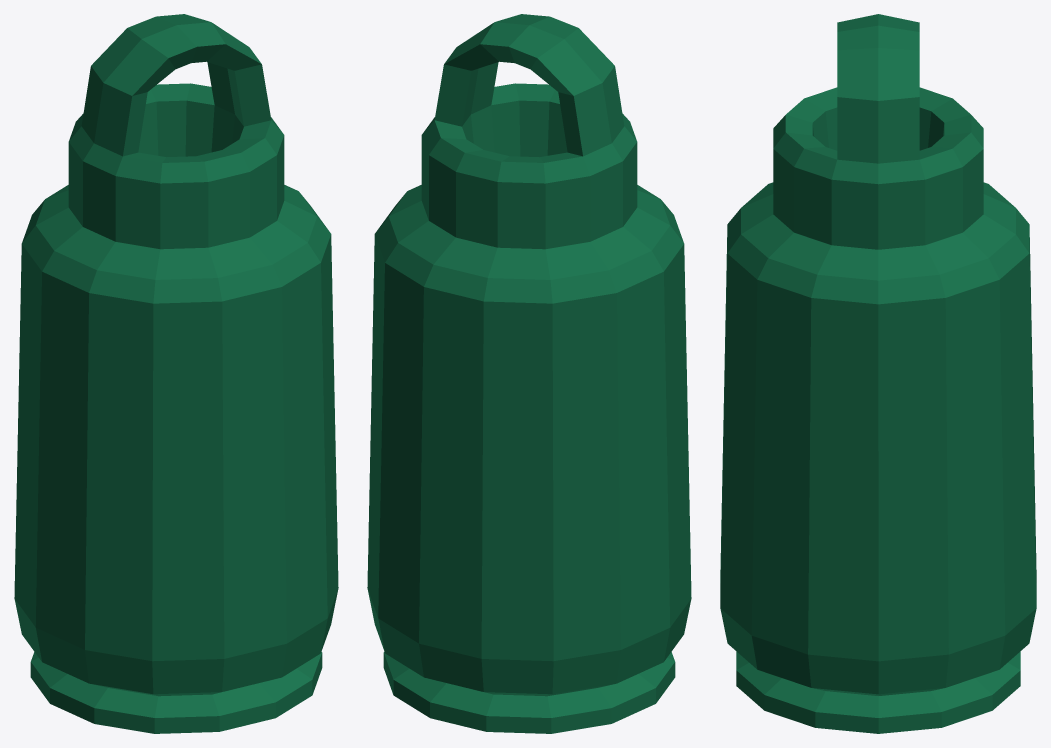
File: SM_cannister_01.fbx
3 views of the same model, side by side, from view 1: azimuth 30°, elevation 25°; view 2: azimuth 150°, elevation 25°; view 3: azimuth 270°, elevation 25° (orthographic).
Visible parts, largest first — view 1: cannister_01; view 2: cannister_01; view 3: cannister_01.
Part boxes in pixels (x1=…): cannister_01: x1=14, y1=14, x2=338, y2=733; cannister_01: x1=367, y1=14, x2=691, y2=733; cannister_01: x1=720, y1=14, x2=1036, y2=733.
Size of the model in its own units: 46.39 by 102 by 45.22.
